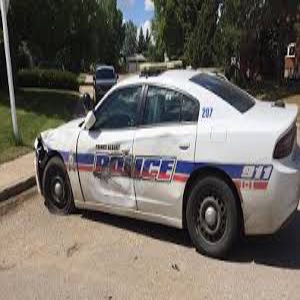door: (85, 148, 182, 208)
